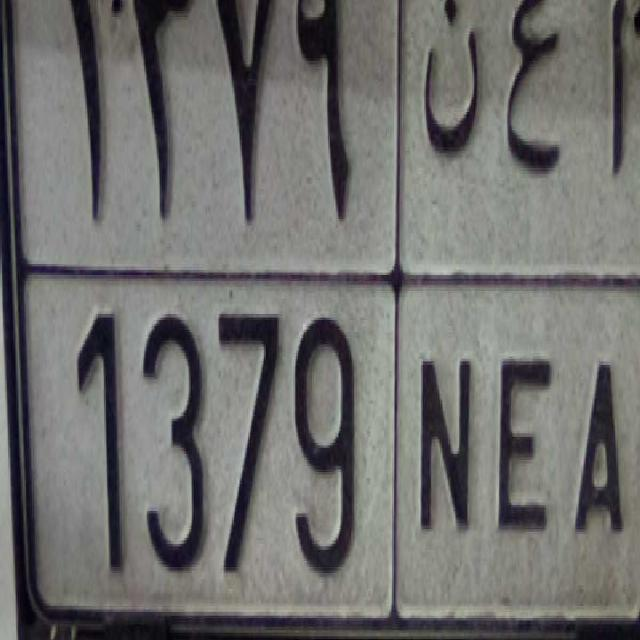license_plate: (15, 263, 640, 625)
